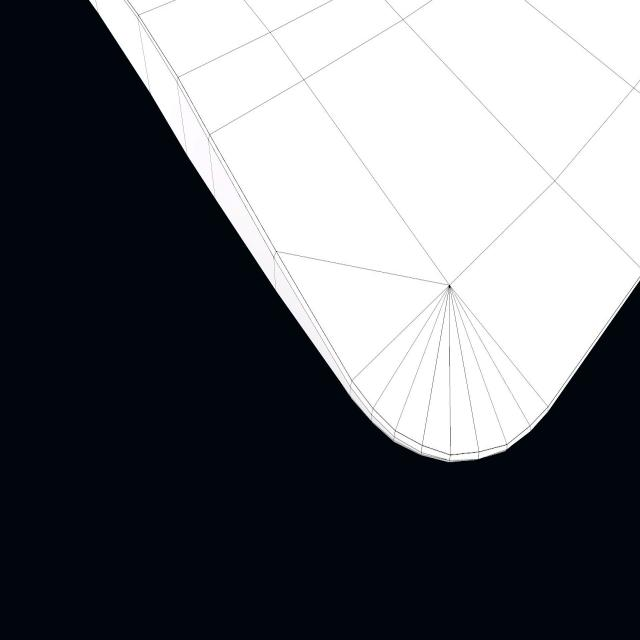cleaver: (84, 0, 640, 462)
